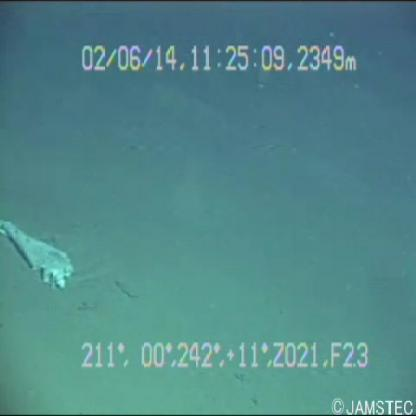Rác: (1, 184, 80, 311)
